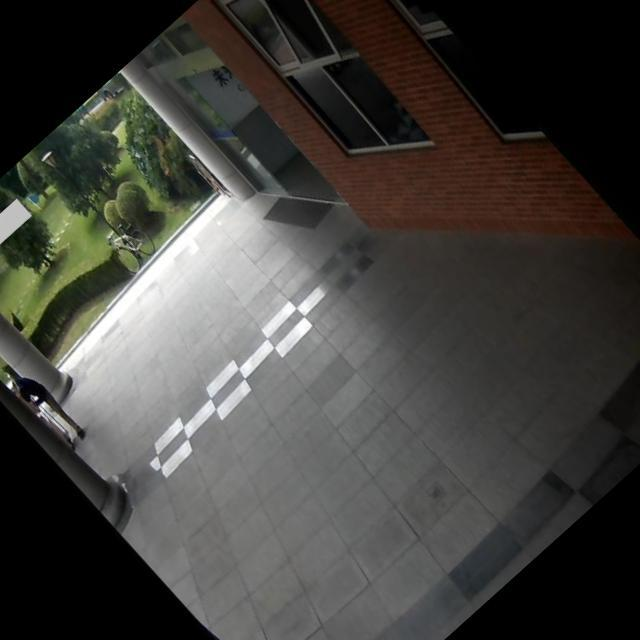person: (0, 349, 98, 463)
